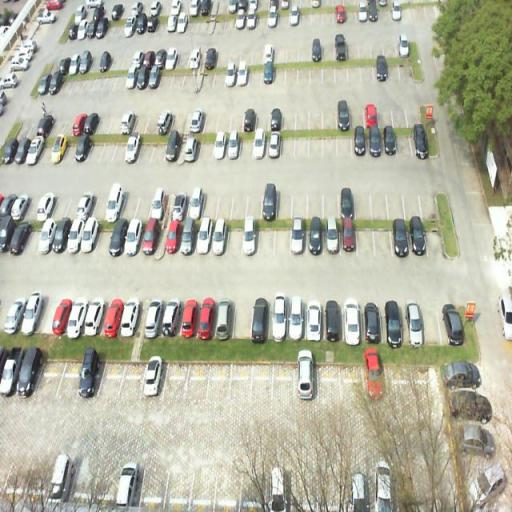Slot-empty: (268, 354, 302, 408), (136, 463, 172, 512), (224, 357, 259, 407), (116, 351, 148, 405), (162, 462, 196, 512), (34, 351, 70, 398), (249, 353, 279, 408), (312, 364, 347, 410), (56, 352, 88, 401), (213, 462, 244, 512), (96, 356, 128, 402), (339, 359, 369, 406), (188, 465, 218, 512), (165, 358, 193, 406), (208, 358, 233, 408), (185, 358, 212, 404)
Slot-occupied: (140, 350, 172, 417), (78, 347, 108, 407), (114, 459, 147, 512), (237, 213, 266, 265), (248, 297, 278, 345), (287, 215, 314, 265), (213, 294, 237, 348)
